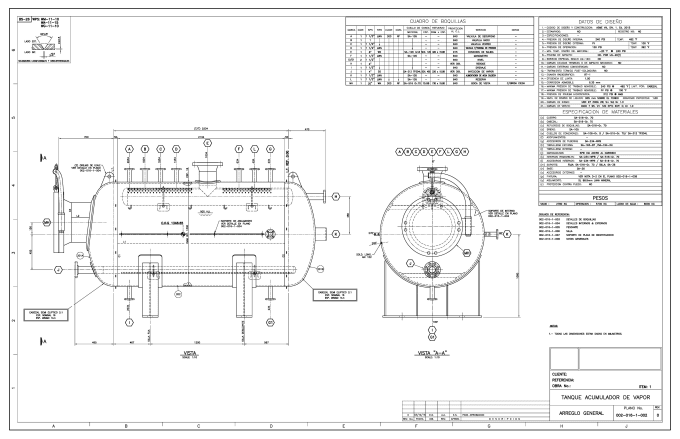nozzle: (189, 156, 227, 190)
